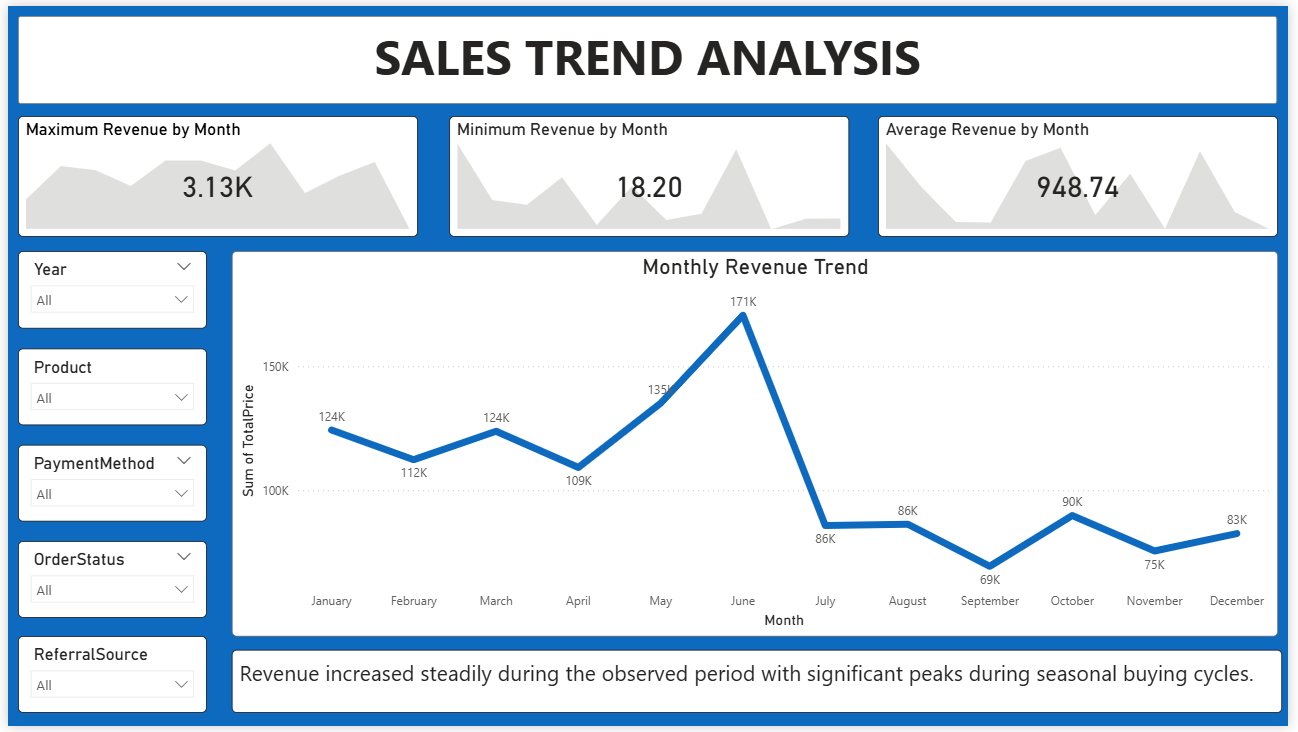

Layout of this report page (visuals, bound fields, positions):
{"tool":"powerbi","page":{"name":"Page 2","canvas":[1280,720],"ordinal":1},"visuals":[{"type":"textbox","box":[10.1,10.1,1259.5,88],"z":0},{"type":"textbox","box":[223.3,643.3,1050,63.3],"z":1000},{"type":"slicer","fields":{"Values":["E-Commerce Orders.Date.Variation.Date Hierarchy.Year"]},"box":[10,245,188.8,77.5],"z":2000},{"type":"slicer","fields":{"Values":["E-Commerce Orders.Product"]},"box":[10,342.2,188.9,76.7],"z":3000},{"type":"slicer","fields":{"Values":["E-Commerce Orders.PaymentMethod"]},"box":[10,438.9,188.9,76.7],"z":4000},{"type":"slicer","fields":{"Values":["E-Commerce Orders.OrderStatus"]},"box":[10,535.6,188.9,76.7],"z":5000},{"type":"slicer","fields":{"Values":["E-Commerce Orders.ReferralSource"]},"box":[10,630,188.9,76.7],"z":6000},{"type":"lineChart","title":"Monthly Revenue Trend","fields":{"Category":["E-Commerce Orders.Date.Variation.Date Hierarchy.Month"],"Y":["Sum(E-Commerce Orders.TotalPrice)"]},"box":[223.6,245.3,1046,385.2],"z":7000},{"type":"kpi","title":"Maximum Revenue by Month","fields":{"TrendLine":["E-Commerce Orders.Date.Variation.Date Hierarchy.Month"],"Indicator":["Max(E-Commerce Orders.TotalPrice)"]},"box":[10.1,109.6,399.6,121.2],"z":8000},{"type":"kpi","title":"Minimum Revenue by Month","fields":{"TrendLine":["E-Commerce Orders.Date.Variation.Date Hierarchy.Month"],"Indicator":["Min(E-Commerce Orders.TotalPrice)"]},"box":[441.5,109.6,399.6,121.2],"z":9000},{"type":"kpi","title":"Average Revenue by Month","fields":{"TrendLine":["E-Commerce Orders.Date.Variation.Date Hierarchy.Month"],"Indicator":["Avg(E-Commerce Orders.TotalPrice)"]},"box":[870,109.6,399.6,121.2],"z":10000}]}

Visuals, with their boxes in screenshot pixels (x1, y1, x2, y2), scaled from the page's 1280x720 canvas onto the 1298x732 screenshot:
textbox: l=10, t=10, r=1287, b=100
textbox: l=226, t=654, r=1291, b=718
slicer - E-Commerce Orders.Date.Variation.Date Hierarchy.Year: l=10, t=249, r=202, b=328
slicer - E-Commerce Orders.Product: l=10, t=348, r=202, b=426
slicer - E-Commerce Orders.PaymentMethod: l=10, t=446, r=202, b=524
slicer - E-Commerce Orders.OrderStatus: l=10, t=545, r=202, b=623
slicer - E-Commerce Orders.ReferralSource: l=10, t=640, r=202, b=718
"Monthly Revenue Trend" lineChart: l=227, t=249, r=1287, b=641
"Maximum Revenue by Month" kpi: l=10, t=111, r=415, b=235
"Minimum Revenue by Month" kpi: l=448, t=111, r=853, b=235
"Average Revenue by Month" kpi: l=882, t=111, r=1287, b=235
